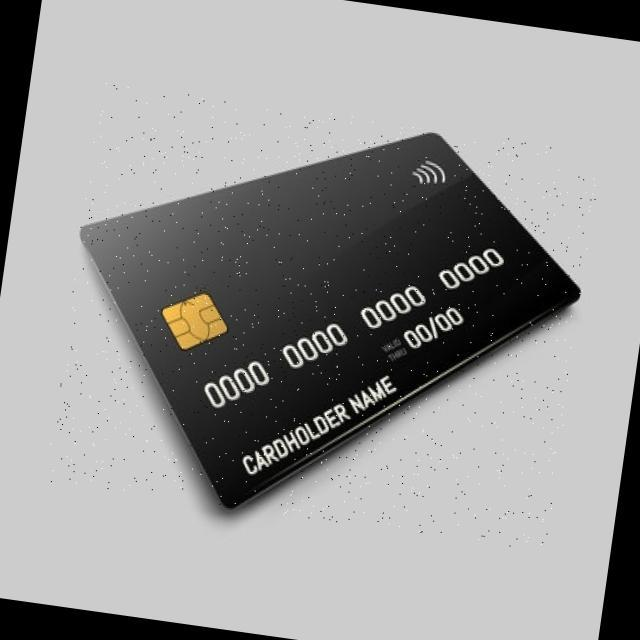payment_card: (77, 130, 581, 510)
